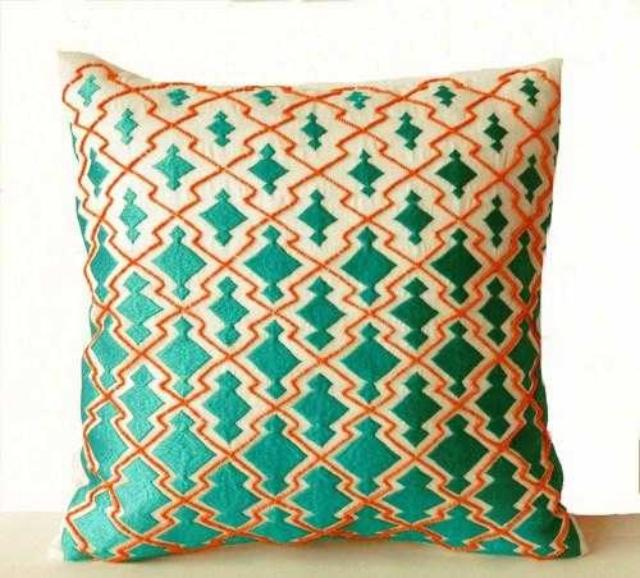pillow: (55, 47, 587, 564)
